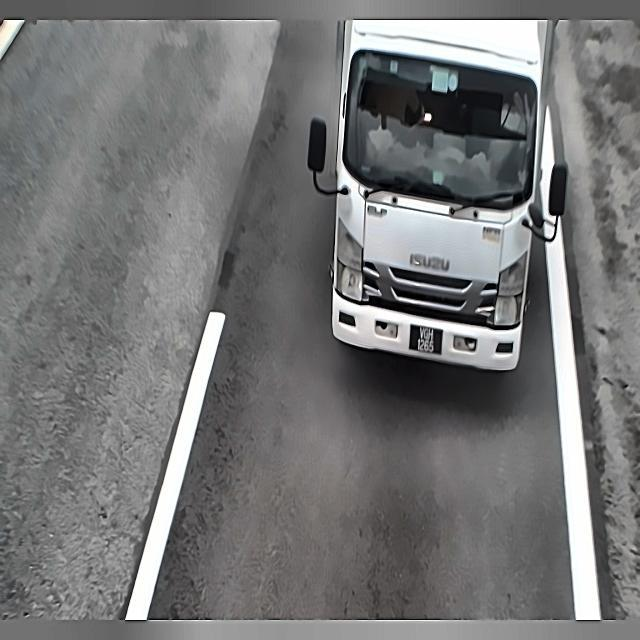car: (408, 322, 443, 364)
